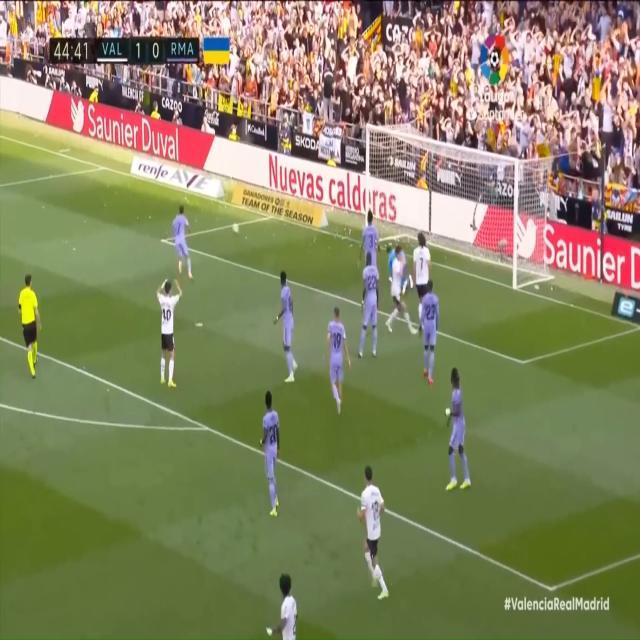ball: (232, 211, 242, 247)
goalkeeper: (385, 247, 411, 291)
player: (353, 461, 399, 626), (439, 361, 476, 496), (149, 276, 191, 390), (260, 379, 287, 525), (274, 257, 303, 385), (356, 256, 385, 366), (323, 306, 351, 409), (390, 249, 418, 341), (169, 196, 196, 289), (422, 281, 444, 387), (270, 570, 302, 640), (360, 216, 380, 281), (416, 229, 430, 321)
referee: (12, 268, 52, 395)
